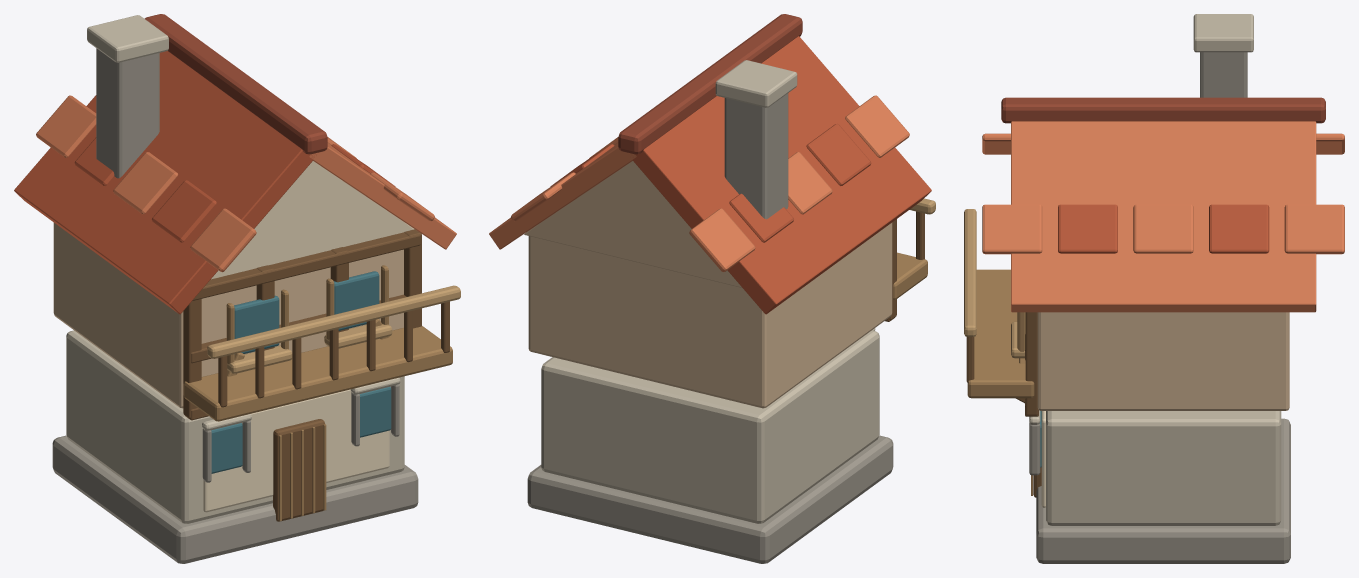
The model's file is house_large.glb.
3 renders of one model, left to right at view 1: azimuth 30°, elevation 25°; view 2: azimuth 150°, elevation 25°; view 3: azimuth 270°, elevation 25°, orthographic. The views are drawn at different scales.
Parts seen in each view (by area): view 1: LargeTimberHouse_Geometry; view 2: LargeTimberHouse_Geometry; view 3: LargeTimberHouse_Geometry.
Part boxes in pixels (left/top/right/bottom): LargeTimberHouse_Geometry: left=14, top=14, right=460, bottom=563; LargeTimberHouse_Geometry: left=489, top=14, right=935, bottom=563; LargeTimberHouse_Geometry: left=964, top=14, right=1344, bottom=563.
Size of the model in its own units: 2.33 by 3.52 by 2.72.
